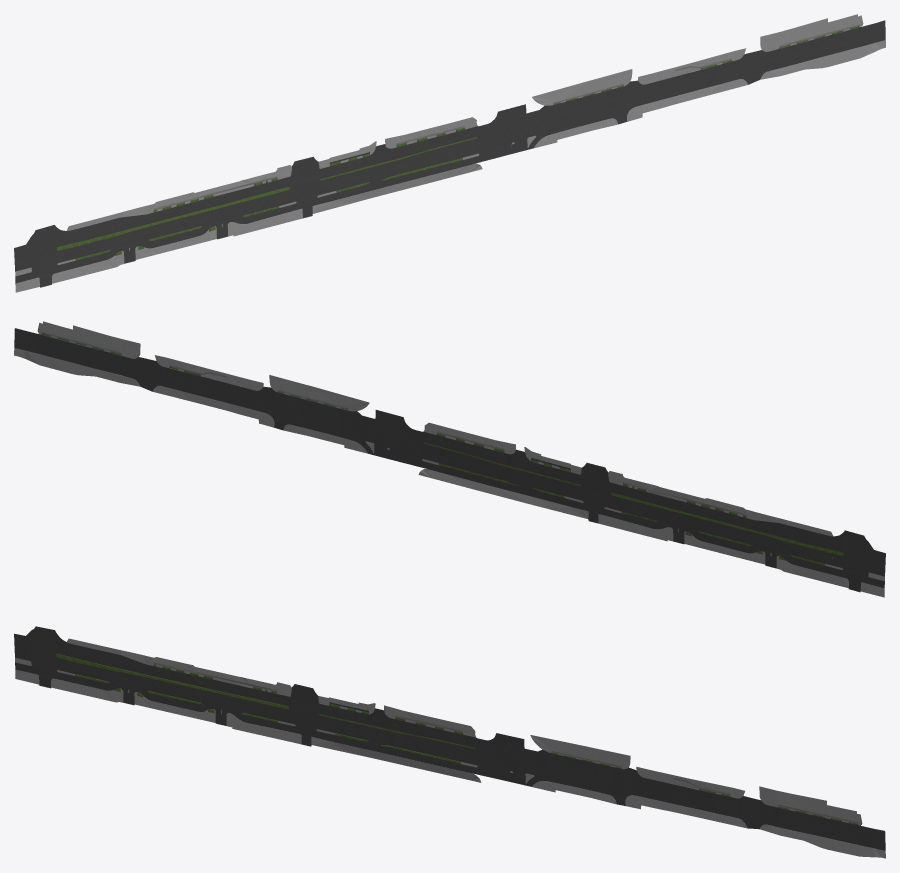
File: 200101-dm_proxy.obj
The picture shows the model from 3 angles, top to bottom: view 1: azimuth 30°, elevation 25°; view 2: azimuth 150°, elevation 25°; view 3: azimuth 330°, elevation 25°; orthographic projection.
Visible parts, largest first — view 1: E:\800mmodel\200101-dm_proxy.osg_MatrixTransform_Group_96, E:\800mmodel\200101-dm_proxy.osg_MatrixTransform_Group_30, E:\800mmodel\200101-dm_proxy.osg_MatrixTransform_Group_46, E:\800mmodel\200101-dm_proxy.osg_MatrixTransform_Group_35, E:\800mmodel\200101-dm_proxy.osg_MatrixTransform_Group_101, E:\800mmodel\200101-dm_proxy.osg_MatrixTransform_Group_74, E:\800mmodel\200101-dm_proxy.osg_MatrixTransform_Group_87, E:\800mmodel\200101-dm_proxy.osg_MatrixTransform_Group_78, E:\800mmodel\200101-dm_proxy.osg_MatrixTransform_Group_99, E:\800mmodel\200101-dm_proxy.osg_MatrixTransform_Group_15, E:\800mmodel\200101-dm_proxy.osg_MatrixTransform_Group_95, E:\800mmodel\200101-dm_proxy.osg_MatrixTransform_Group_105 (+13 smaller); view 2: E:\800mmodel\200101-dm_proxy.osg_MatrixTransform_Group_96, E:\800mmodel\200101-dm_proxy.osg_MatrixTransform_Group_30, E:\800mmodel\200101-dm_proxy.osg_MatrixTransform_Group_46, E:\800mmodel\200101-dm_proxy.osg_MatrixTransform_Group_35, E:\800mmodel\200101-dm_proxy.osg_MatrixTransform_Group_101, E:\800mmodel\200101-dm_proxy.osg_MatrixTransform_Group_74, E:\800mmodel\200101-dm_proxy.osg_MatrixTransform_Group_87, E:\800mmodel\200101-dm_proxy.osg_MatrixTransform_Group_78, E:\800mmodel\200101-dm_proxy.osg_MatrixTransform_Group_99, E:\800mmodel\200101-dm_proxy.osg_MatrixTransform_Group_15, E:\800mmodel\200101-dm_proxy.osg_MatrixTransform_Group_6, E:\800mmodel\200101-dm_proxy.osg_MatrixTransform_Group_95 (+13 smaller); view 3: E:\800mmodel\200101-dm_proxy.osg_MatrixTransform_Group_96, E:\800mmodel\200101-dm_proxy.osg_MatrixTransform_Group_30, E:\800mmodel\200101-dm_proxy.osg_MatrixTransform_Group_46, E:\800mmodel\200101-dm_proxy.osg_MatrixTransform_Group_35, E:\800mmodel\200101-dm_proxy.osg_MatrixTransform_Group_101, E:\800mmodel\200101-dm_proxy.osg_MatrixTransform_Group_74, E:\800mmodel\200101-dm_proxy.osg_MatrixTransform_Group_87, E:\800mmodel\200101-dm_proxy.osg_MatrixTransform_Group_78, E:\800mmodel\200101-dm_proxy.osg_MatrixTransform_Group_99, E:\800mmodel\200101-dm_proxy.osg_MatrixTransform_Group_15, E:\800mmodel\200101-dm_proxy.osg_MatrixTransform_Group_95, E:\800mmodel\200101-dm_proxy.osg_MatrixTransform_Group_105 (+13 smaller).
Boxes of the visible parts, bbox=[...] form: E:\800mmodel\200101-dm_proxy.osg_MatrixTransform_Group_96: bbox=[528, 62, 727, 149]; E:\800mmodel\200101-dm_proxy.osg_MatrixTransform_Group_30: bbox=[66, 192, 280, 259]; E:\800mmodel\200101-dm_proxy.osg_MatrixTransform_Group_46: bbox=[63, 177, 289, 245]; E:\800mmodel\200101-dm_proxy.osg_MatrixTransform_Group_35: bbox=[320, 139, 475, 192]; E:\800mmodel\200101-dm_proxy.osg_MatrixTransform_Group_101: bbox=[474, 104, 535, 163]; E:\800mmodel\200101-dm_proxy.osg_MatrixTransform_Group_74: bbox=[14, 225, 70, 287]; E:\800mmodel\200101-dm_proxy.osg_MatrixTransform_Group_87: bbox=[779, 20, 885, 67]; E:\800mmodel\200101-dm_proxy.osg_MatrixTransform_Group_78: bbox=[322, 126, 477, 178]; E:\800mmodel\200101-dm_proxy.osg_MatrixTransform_Group_99: bbox=[280, 156, 331, 214]; E:\800mmodel\200101-dm_proxy.osg_MatrixTransform_Group_15: bbox=[58, 208, 280, 272]; E:\800mmodel\200101-dm_proxy.osg_MatrixTransform_Group_95: bbox=[66, 165, 291, 230]; E:\800mmodel\200101-dm_proxy.osg_MatrixTransform_Group_105: bbox=[760, 14, 863, 51]; E:\800mmodel\200101-dm_proxy.osg_MatrixTransform_Group_96: bbox=[172, 369, 373, 455]; E:\800mmodel\200101-dm_proxy.osg_MatrixTransform_Group_30: bbox=[620, 498, 833, 564]; E:\800mmodel\200101-dm_proxy.osg_MatrixTransform_Group_46: bbox=[611, 482, 836, 550]; E:\800mmodel\200101-dm_proxy.osg_MatrixTransform_Group_35: bbox=[426, 444, 580, 498]; E:\800mmodel\200101-dm_proxy.osg_MatrixTransform_Group_101: bbox=[366, 410, 426, 468]; E:\800mmodel\200101-dm_proxy.osg_MatrixTransform_Group_74: bbox=[829, 530, 885, 592]; E:\800mmodel\200101-dm_proxy.osg_MatrixTransform_Group_87: bbox=[14, 328, 120, 374]; E:\800mmodel\200101-dm_proxy.osg_MatrixTransform_Group_78: bbox=[423, 432, 578, 484]; E:\800mmodel\200101-dm_proxy.osg_MatrixTransform_Group_99: bbox=[569, 463, 620, 519]; E:\800mmodel\200101-dm_proxy.osg_MatrixTransform_Group_15: bbox=[620, 513, 841, 576]; E:\800mmodel\200101-dm_proxy.osg_MatrixTransform_Group_6: bbox=[418, 469, 588, 518]; E:\800mmodel\200101-dm_proxy.osg_MatrixTransform_Group_95: bbox=[608, 471, 832, 536]; E:\800mmodel\200101-dm_proxy.osg_MatrixTransform_Group_96: bbox=[526, 749, 727, 815]; E:\800mmodel\200101-dm_proxy.osg_MatrixTransform_Group_30: bbox=[66, 660, 279, 720]; E:\800mmodel\200101-dm_proxy.osg_MatrixTransform_Group_46: bbox=[63, 640, 288, 706]; E:\800mmodel\200101-dm_proxy.osg_MatrixTransform_Group_35: bbox=[319, 715, 473, 764]; E:\800mmodel\200101-dm_proxy.osg_MatrixTransform_Group_101: bbox=[473, 733, 533, 781]; E:\800mmodel\200101-dm_proxy.osg_MatrixTransform_Group_74: bbox=[14, 626, 70, 688]; E:\800mmodel\200101-dm_proxy.osg_MatrixTransform_Group_87: bbox=[779, 808, 885, 850]; E:\800mmodel\200101-dm_proxy.osg_MatrixTransform_Group_78: bbox=[321, 704, 476, 747]; E:\800mmodel\200101-dm_proxy.osg_MatrixTransform_Group_99: bbox=[279, 684, 330, 740]; E:\800mmodel\200101-dm_proxy.osg_MatrixTransform_Group_15: bbox=[58, 672, 279, 729]; E:\800mmodel\200101-dm_proxy.osg_MatrixTransform_Group_95: bbox=[67, 638, 291, 696]; E:\800mmodel\200101-dm_proxy.osg_MatrixTransform_Group_105: bbox=[759, 786, 862, 825].
Size of the model in its own units: 904 by 75.47 by 3.36.
4 materials, 4 textured.
